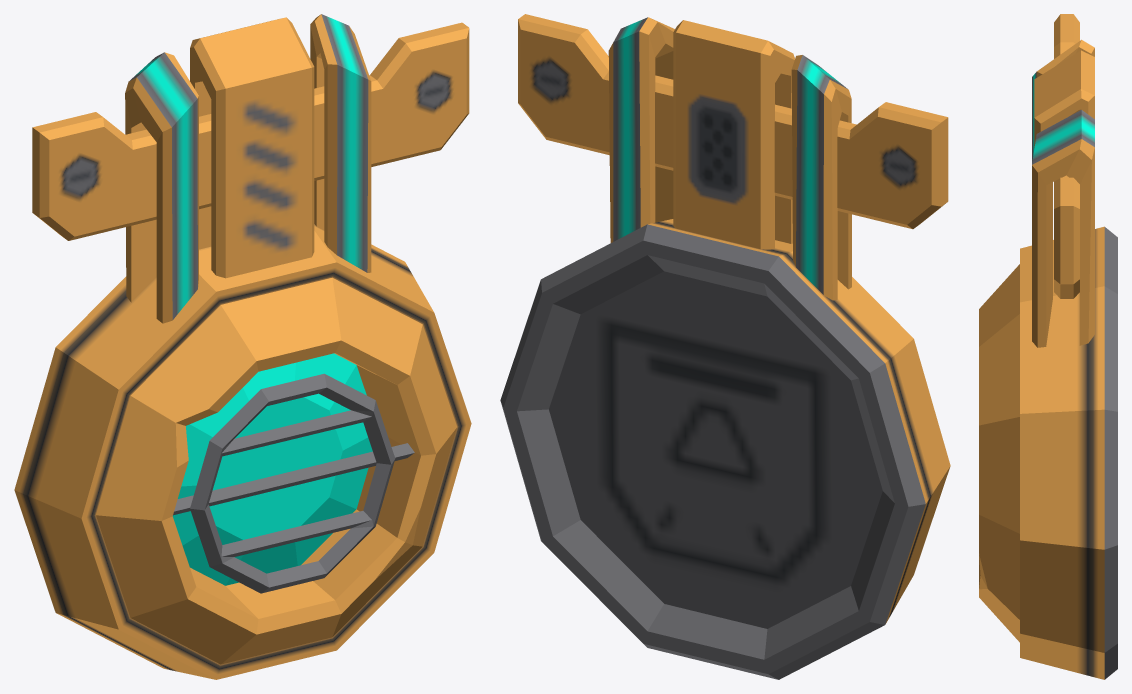
The model's file is SM_Prop_Lamp_02.fbx.
The picture shows the model from 3 angles, left to right: view 1: azimuth 30°, elevation 25°; view 2: azimuth 150°, elevation 25°; view 3: azimuth 270°, elevation 25°; orthographic projection. The views are drawn at different scales.
Visible parts, largest first — view 1: SM_Prop_Lamp_02; view 2: SM_Prop_Lamp_02; view 3: SM_Prop_Lamp_02.
Boxes of the visible parts, x1=… form: SM_Prop_Lamp_02: x1=14, y1=14, x2=471, y2=679; SM_Prop_Lamp_02: x1=500, y1=14, x2=950, y2=679; SM_Prop_Lamp_02: x1=979, y1=14, x2=1117, y2=679.
Size of the model in its own units: 85.94 by 120 by 26.13.
